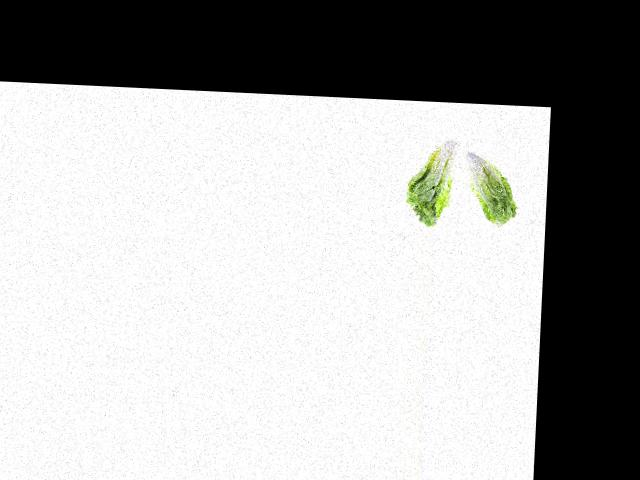lettuce: (460, 142, 521, 227)
